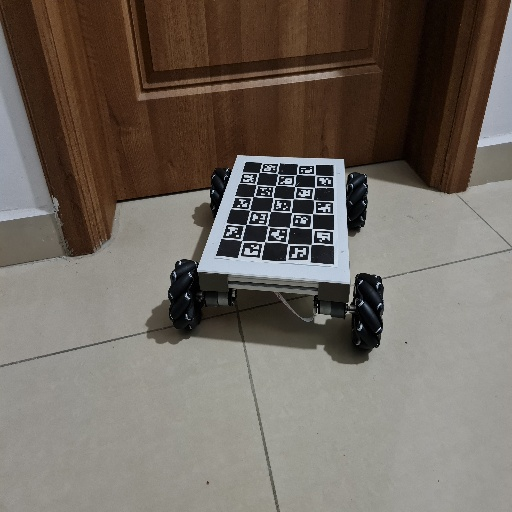Omniwheel: (167, 154, 387, 355)
